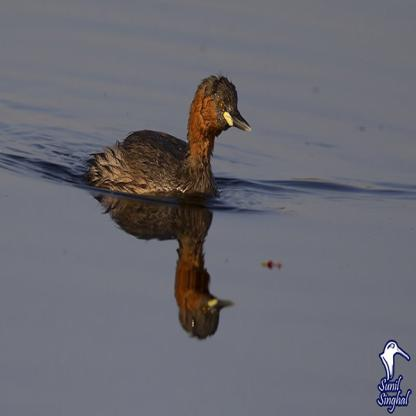Burung: (85, 75, 252, 200)
